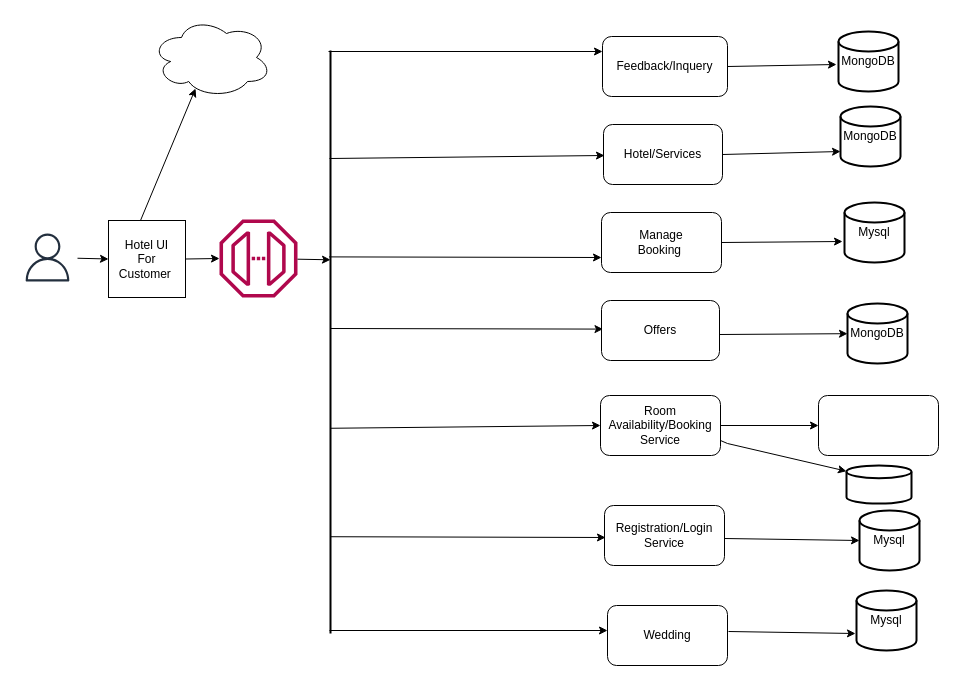
This 956x683 diagram has some shape labels left out. The box of each missing label's shape, as (x1, y1, x2, y2) in pixels:
API-Gatways: (219, 219, 297, 297)
CDN: (150, 16, 272, 98)
My SQL: (845, 464, 912, 504)
Payment Service: (818, 394, 938, 456)
User: (16, 226, 78, 288)
